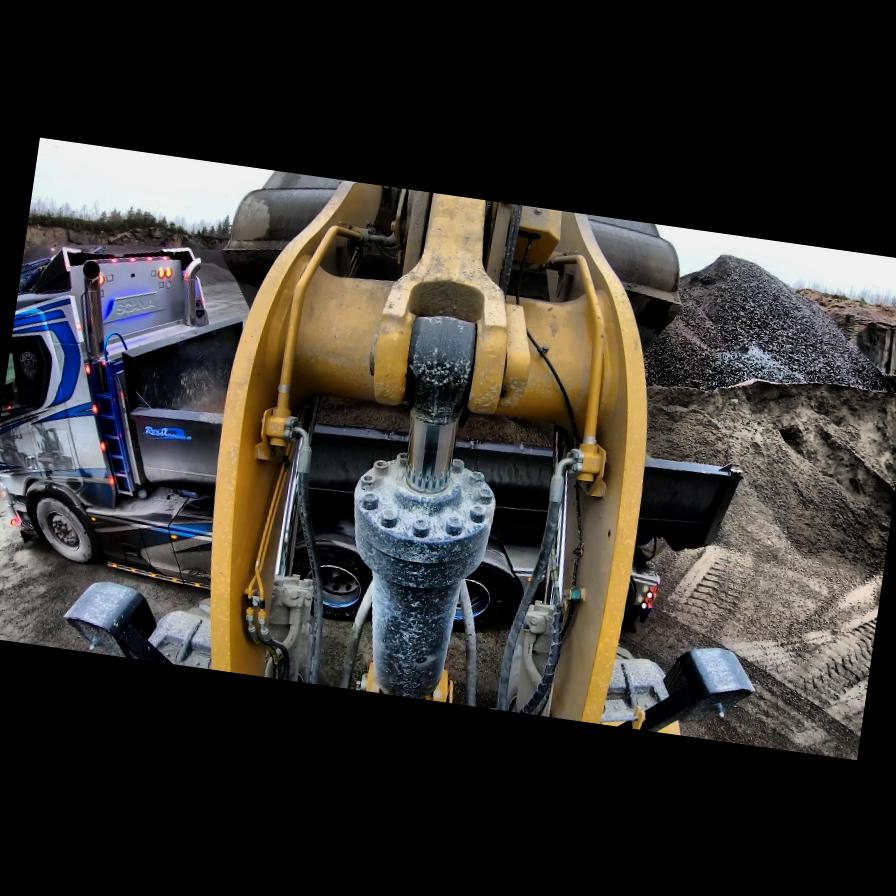anchor: (392, 302, 490, 435)
pile of gravel: (638, 357, 896, 594), (641, 245, 896, 419)
